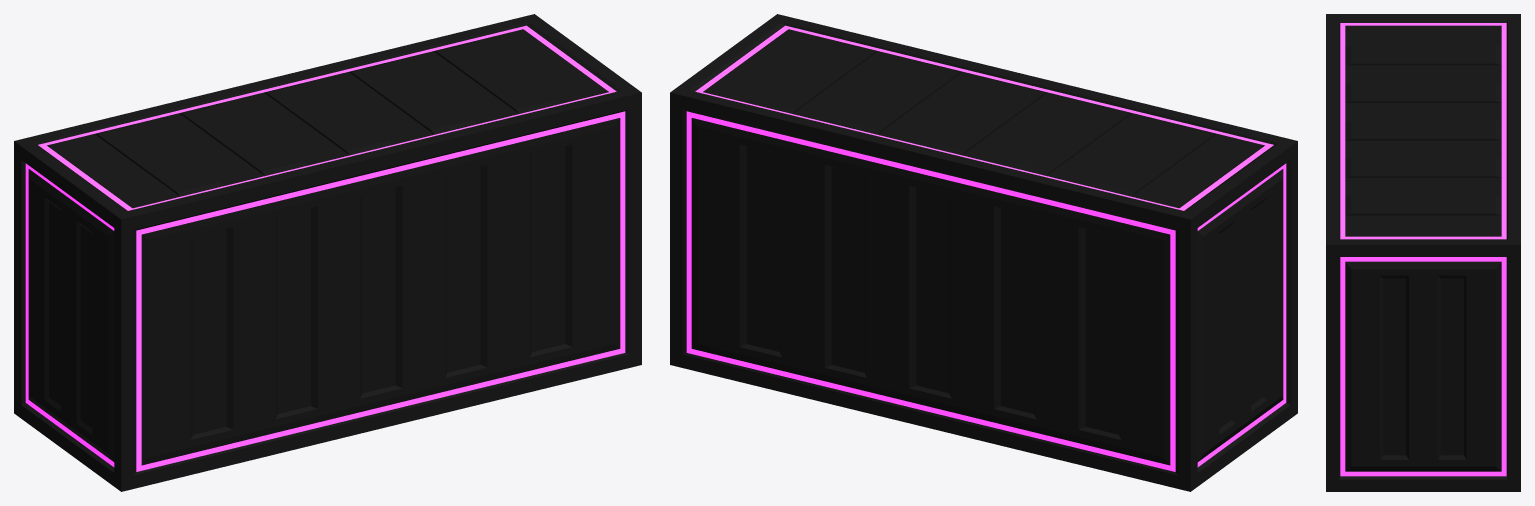
Rendered from Container.fbx.
3 renders of one model, left to right at view 1: azimuth 30°, elevation 25°; view 2: azimuth 150°, elevation 25°; view 3: azimuth 270°, elevation 25°, orthographic. The views are drawn at different scales.
Visible parts, largest first — view 1: Container; view 2: Container; view 3: Container.
Part boxes in pixels (<box>): Container: <box>14,14,641,491</box>; Container: <box>670,14,1297,491</box>; Container: <box>1326,14,1520,491</box>.
Bounding box in the file's own units: 710 × 355 × 254.
